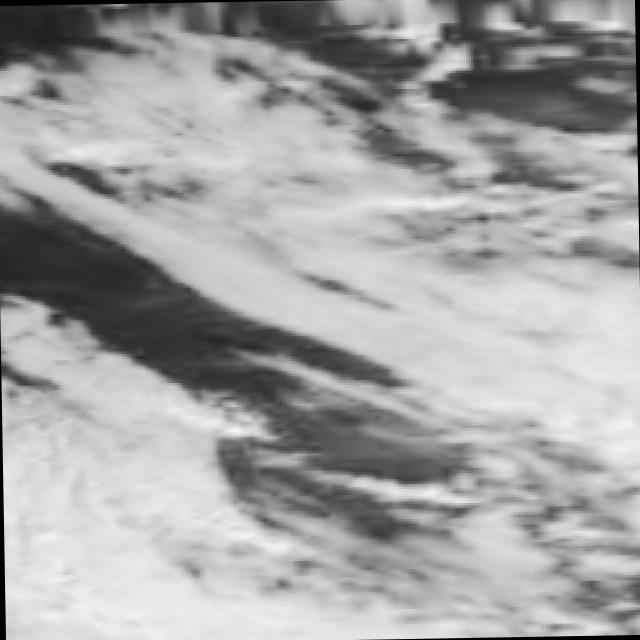CB: (2, 450, 186, 640)
